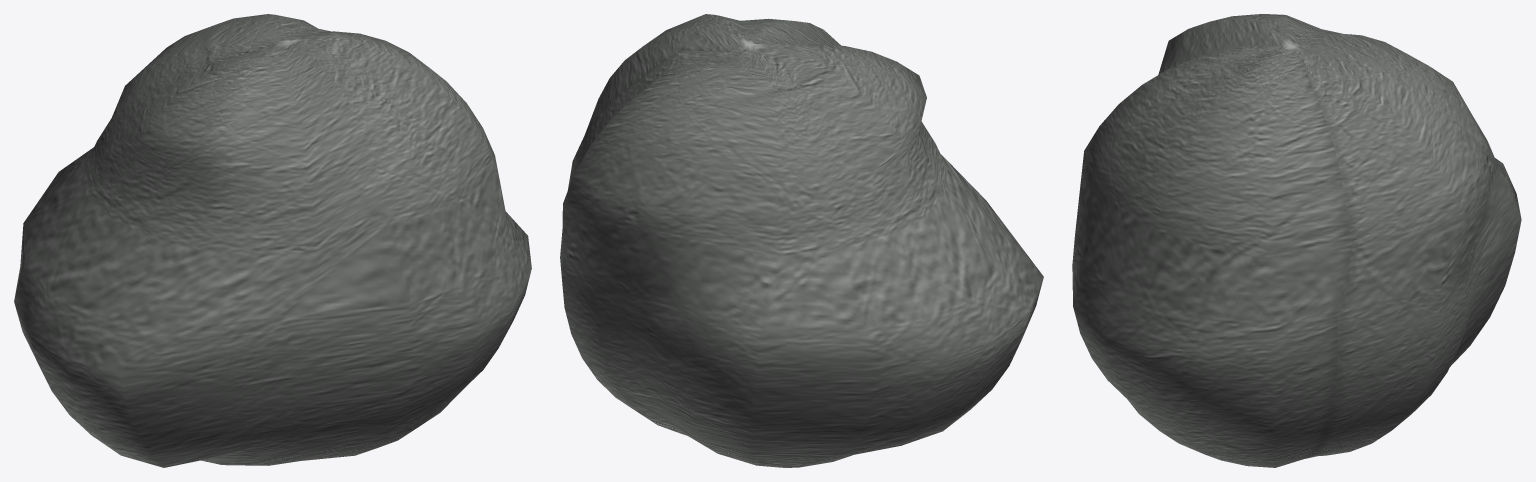
File: Irreg_round_stone.fbx
The picture shows the model from 3 angles, left to right: view 1: azimuth 30°, elevation 25°; view 2: azimuth 150°, elevation 25°; view 3: azimuth 270°, elevation 25°; orthographic projection.
Parts seen in each view (by area): view 1: pSphere1; view 2: pSphere1; view 3: pSphere1.
Part boxes in pixels (x1,y1,x2,y2): pSphere1: [14, 14, 531, 467]; pSphere1: [560, 14, 1043, 467]; pSphere1: [1072, 14, 1521, 467].
Bounding box in the file's own units: 2.56 × 2.2 × 2.21.
1 material, 1 textured.
